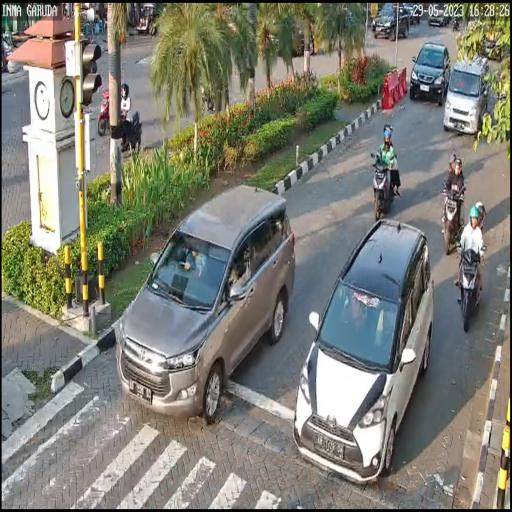mobil: (118, 183, 294, 425), (297, 220, 435, 490), (444, 59, 486, 139), (411, 42, 450, 101)
motor: (456, 243, 485, 331), (371, 153, 398, 221), (441, 182, 464, 250)
